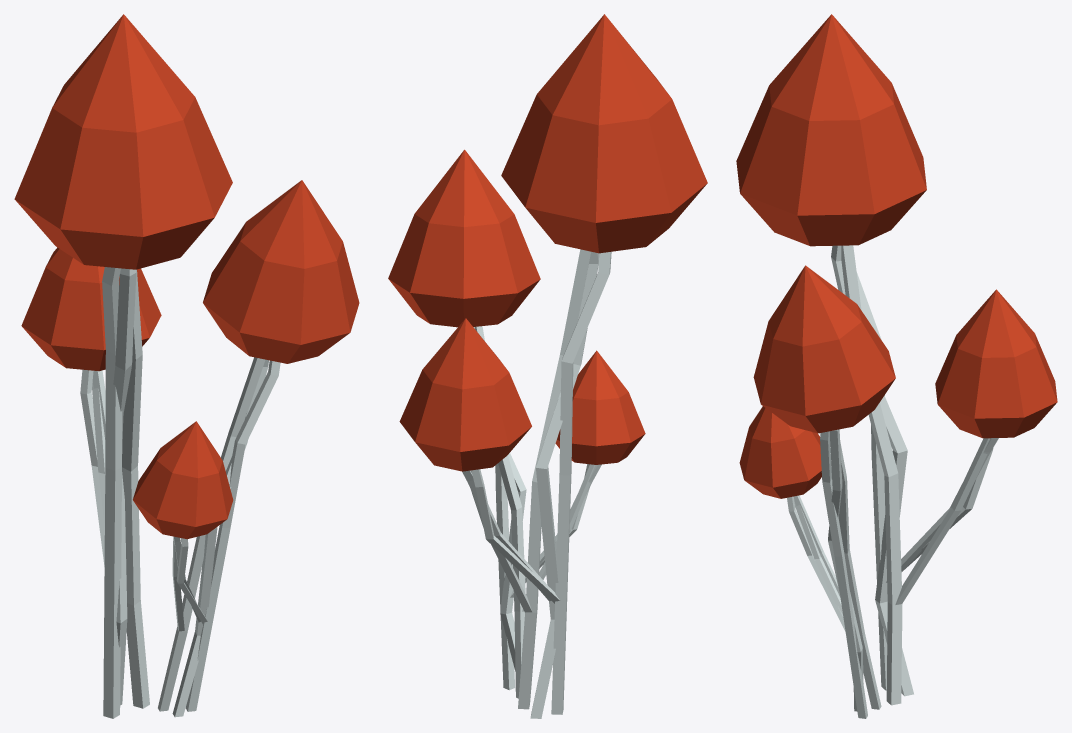
File: TP_Plant05.fbx
The picture shows the model from 3 angles, left to right: view 1: azimuth 30°, elevation 25°; view 2: azimuth 150°, elevation 25°; view 3: azimuth 270°, elevation 25°; orthographic projection. The views are drawn at different scales.
Visible parts, largest first — view 1: TP_Plant05; view 2: TP_Plant05; view 3: TP_Plant05.
Boxes of the visible parts, box(x1,y1,x2,y2) form: TP_Plant05: box(14, 14, 359, 718); TP_Plant05: box(388, 14, 707, 718); TP_Plant05: box(736, 14, 1057, 718).
Size of the model in its own units: 19.82 by 44.27 by 19.37.
1 material, 1 textured.
